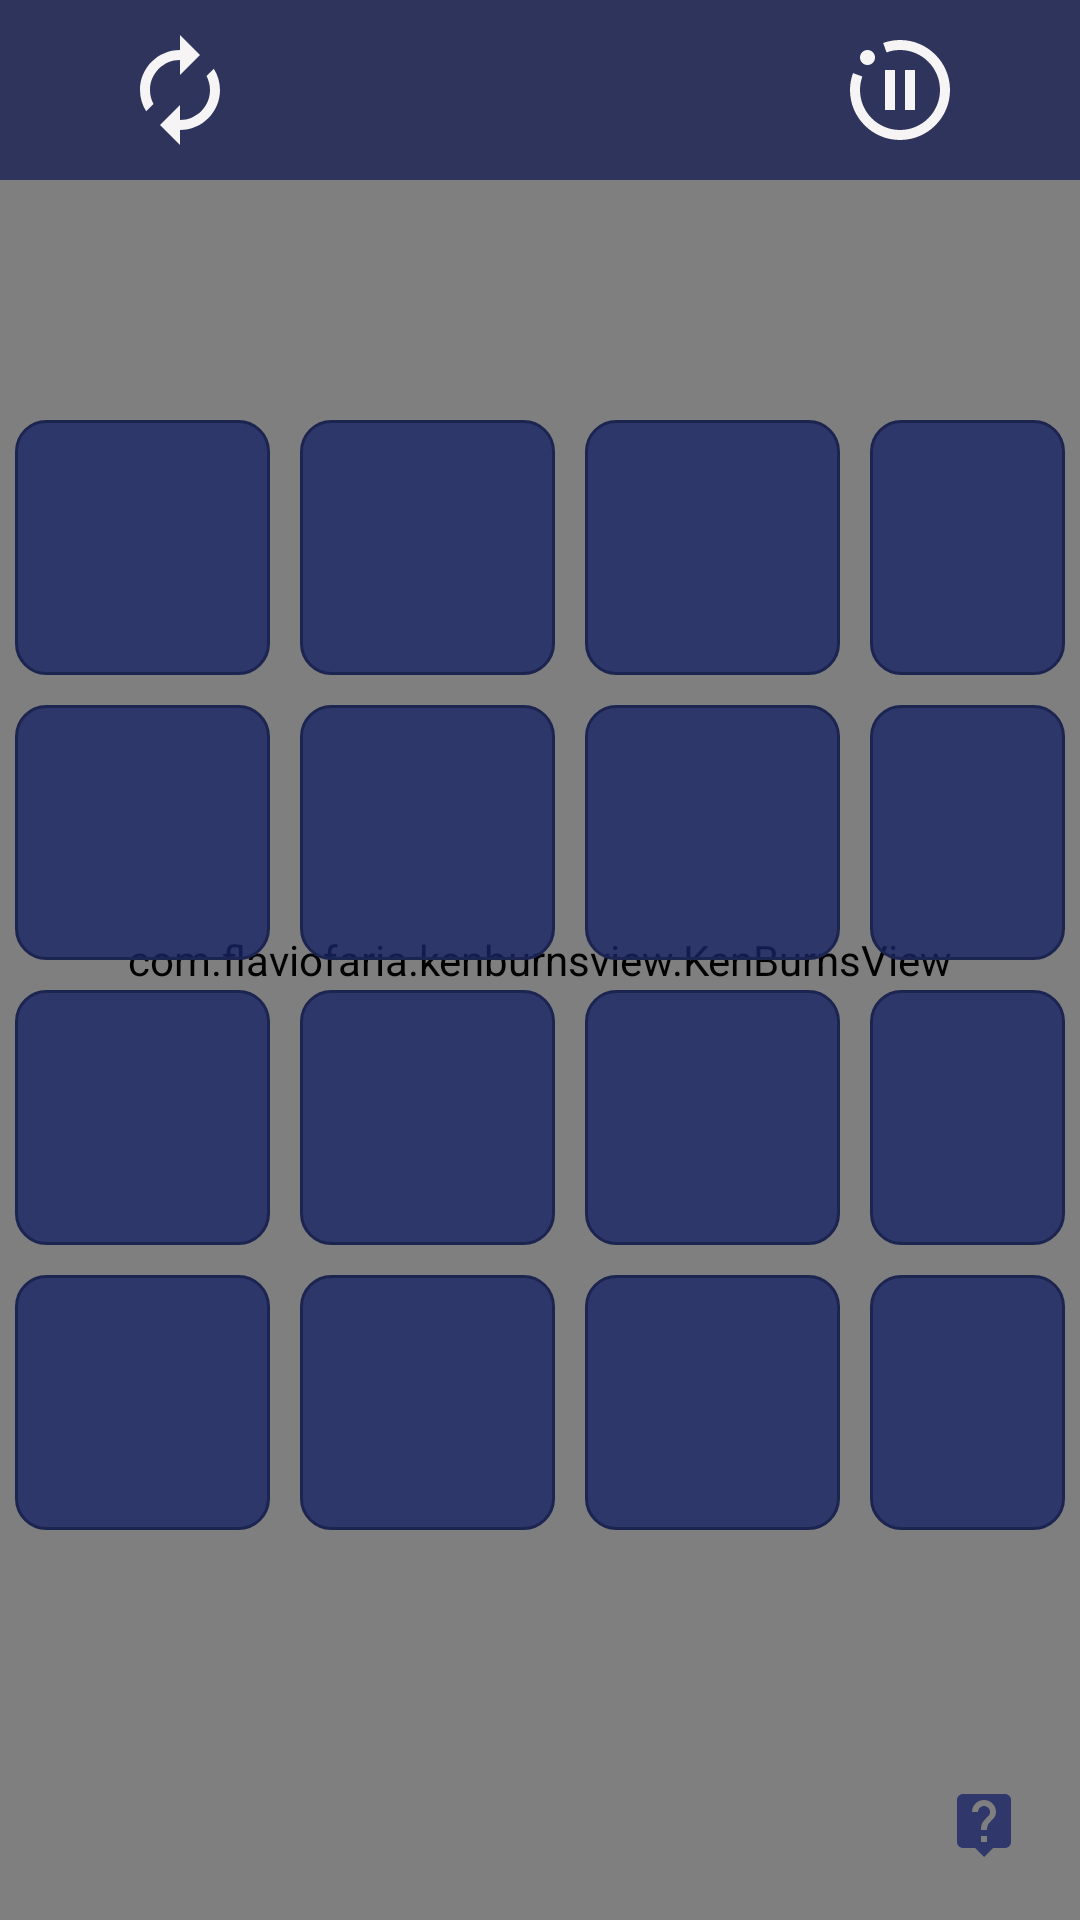

Where to tap for icons on this 1080x1920 app screen, as [x,y]:
Help: [984,1825]
replay: [180,90]
